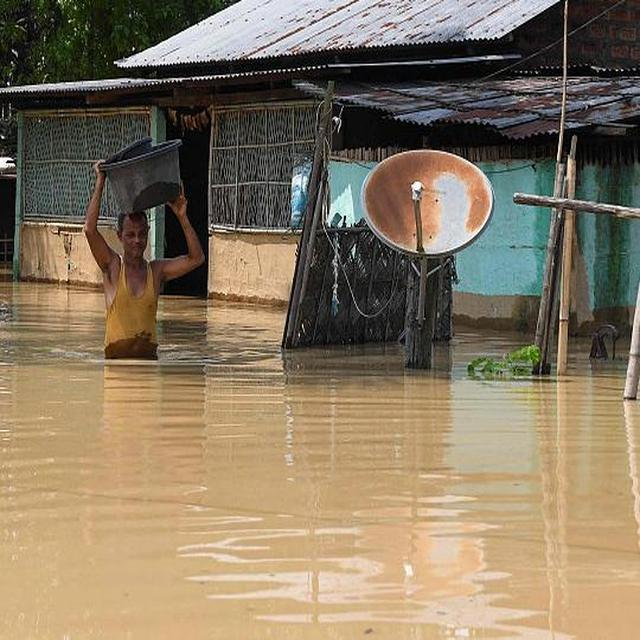Person-RiskLevel3: (81, 151, 206, 368)
